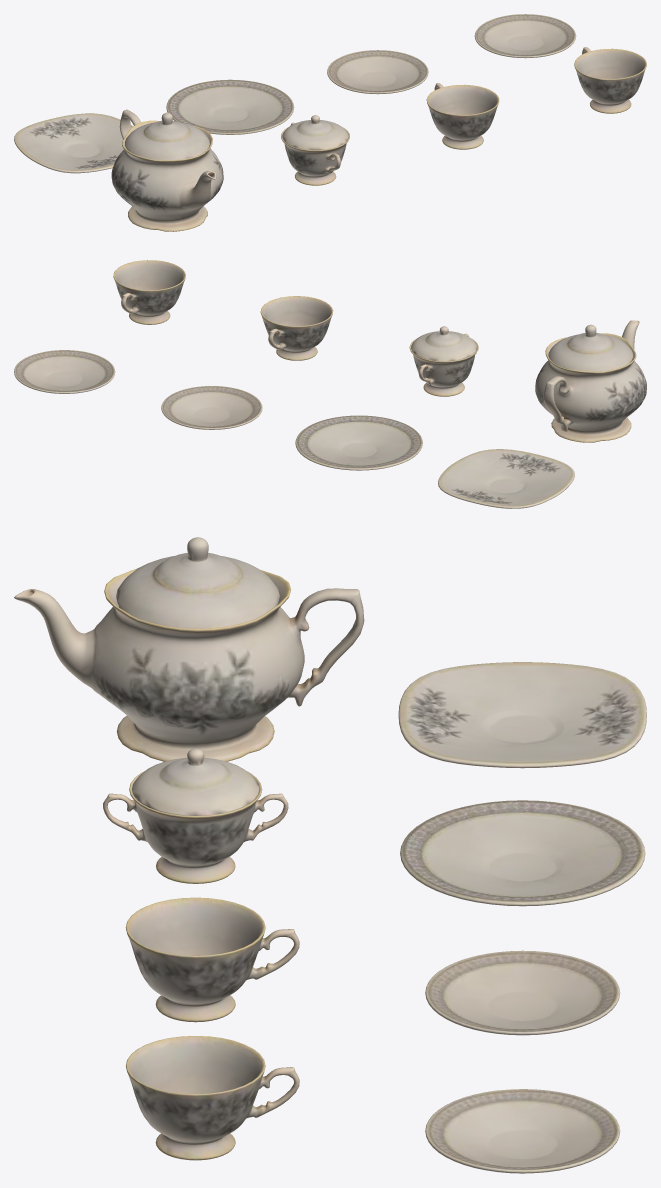
The model's file is tea_set_01.glb.
3 views of the same model, one above another, from view 1: azimuth 30°, elevation 25°; view 2: azimuth 150°, elevation 25°; view 3: azimuth 270°, elevation 25° (orthographic). The views are drawn at different scales.
Parts seen in each view (by area): view 1: tea_set_01_plate_large_square_01; view 2: tea_set_01_plate_large_square_01; view 3: tea_set_01_plate_large_square_01.
Part boxes in pixels (bbox=[...]): tea_set_01_plate_large_square_01: bbox=[14, 14, 646, 231]; tea_set_01_plate_large_square_01: bbox=[14, 260, 646, 508]; tea_set_01_plate_large_square_01: bbox=[14, 537, 646, 1173].
Size of the model in its own units: 0.9185 by 0.165 by 0.4839.
1 material, 1 textured.
